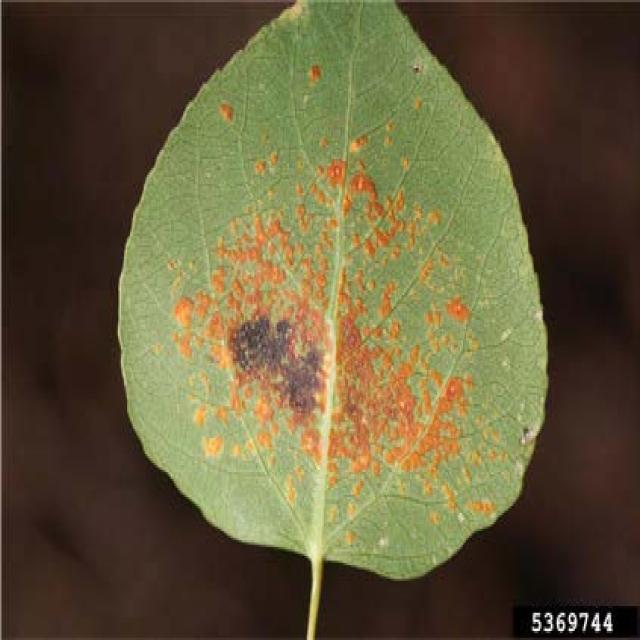leaf_rust: (120, 0, 545, 638)
